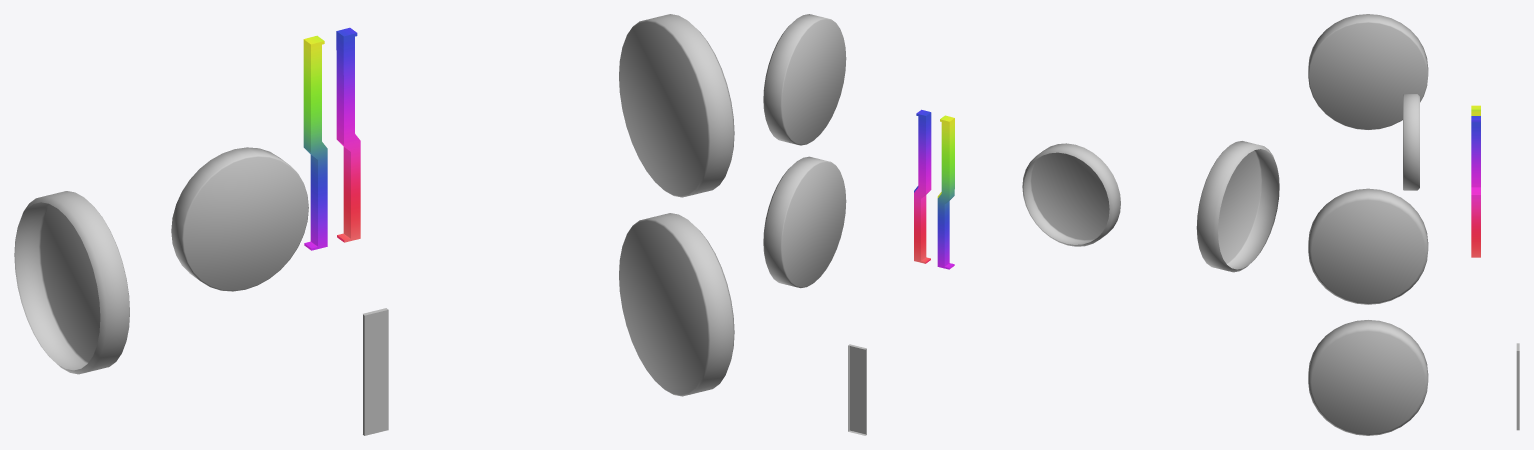
The model's file is Computer-gltf-animated.gltf.
3 views of the same model, side by side, from view 1: azimuth 30°, elevation 25°; view 2: azimuth 150°, elevation 25°; view 3: azimuth 270°, elevation 25° (orthographic). The views are drawn at different scales.
Parts seen in each view (by area): view 1: Cylinder.009, Cylinder.013, Cylinder.008, Cylinder, Cube.004, Cube.003, Color sky_00000.001; view 2: Cylinder.008, Cylinder.009, Cylinder.013, Cylinder, Cube.003, Cube.004, Color sky_00000.001; view 3: Cylinder.013, Cylinder.009, Cylinder.008, Cylinder, Cube.004, Color sky_00000.001.
Boxes of the visible parts, x1,y1,x2,y2 form: Cylinder.009: (619,14,734,197); Cylinder.013: (619,213,734,396); Cylinder.008: (14,191,129,374); Cylinder: (171,147,308,291); Cube.004: (336,27,360,242); Cube.003: (303,35,327,250); Color sky_00000.001: (362,308,388,435); Cylinder.008: (1196,141,1279,272); Cylinder.009: (763,14,846,145); Cylinder.013: (763,156,846,288); Cylinder: (1022,143,1120,246); Cube.003: (937,115,954,269); Cube.004: (914,109,931,263); Color sky_00000.001: (848,344,866,435); Cylinder.013: (1308,320,1428,435); Cylinder.009: (1308,188,1428,304); Cylinder.008: (1308,14,1428,129); Cylinder: (1403,94,1419,190); Cube.004: (1471,116,1480,257); Color sky_00000.001: (1516,343,1519,430).
Size of the model in its own units: 0.571 by 0.3842 by 0.2503.
